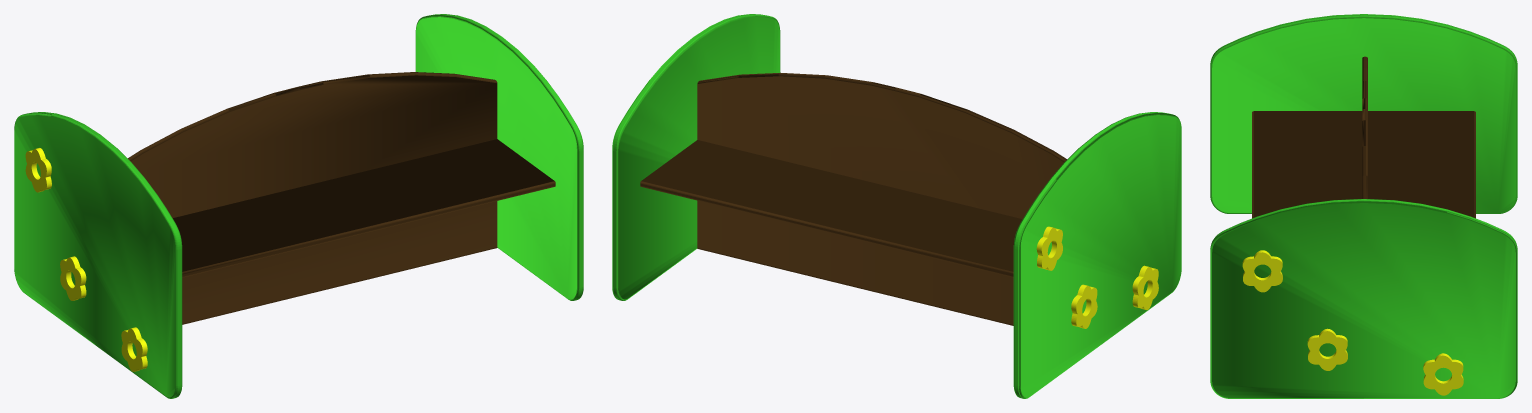
3 views of the same model, side by side, from view 1: azimuth 30°, elevation 25°; view 2: azimuth 150°, elevation 25°; view 3: azimuth 270°, elevation 25° (orthographic). The views are drawn at different scales.
Parts seen in each view (by area): view 1: D_57; view 2: D_57; view 3: D_57.
Boxes of the visible parts, x1=… form: D_57: x1=14, y1=14, x2=583, y2=398; D_57: x1=612, y1=14, x2=1181, y2=398; D_57: x1=1210, y1=14, x2=1517, y2=398.
Bounding box in the file's own units: 126 × 60.5 × 85.
